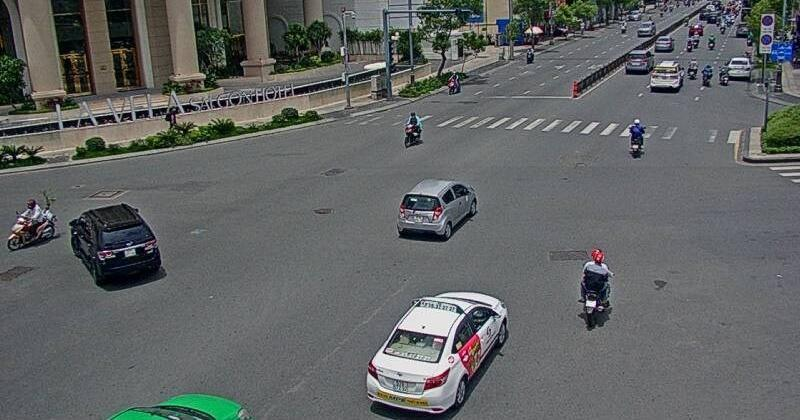xe hoi: (362, 289, 512, 420), (67, 199, 164, 291), (392, 179, 477, 243)
xe may: (577, 244, 612, 328), (9, 199, 54, 249)
